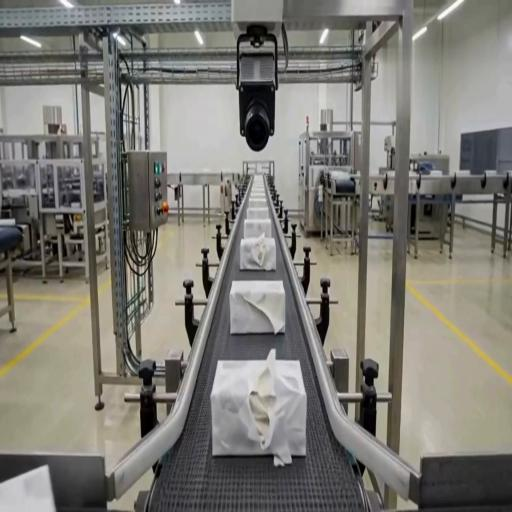defective: (210, 352, 306, 462), (228, 280, 286, 334), (239, 234, 277, 272)
good: (0, 464, 58, 510), (243, 217, 272, 240), (246, 208, 270, 222)
